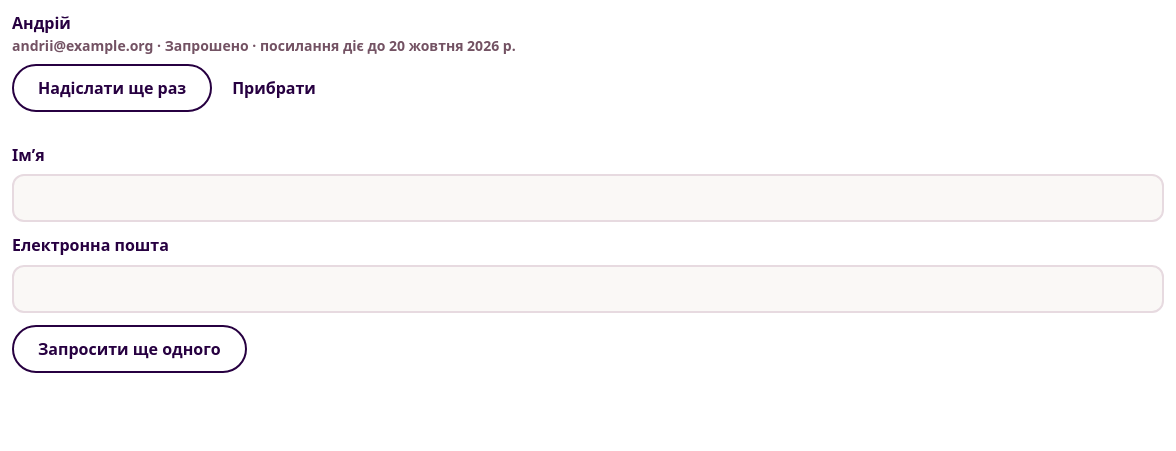
Test: resend shows what became of the email › {"kind":"sent","blockCheck":"clear"}
Click the button "Надіслати ще раз".
click(112, 88)  # box [12,64,212,112]
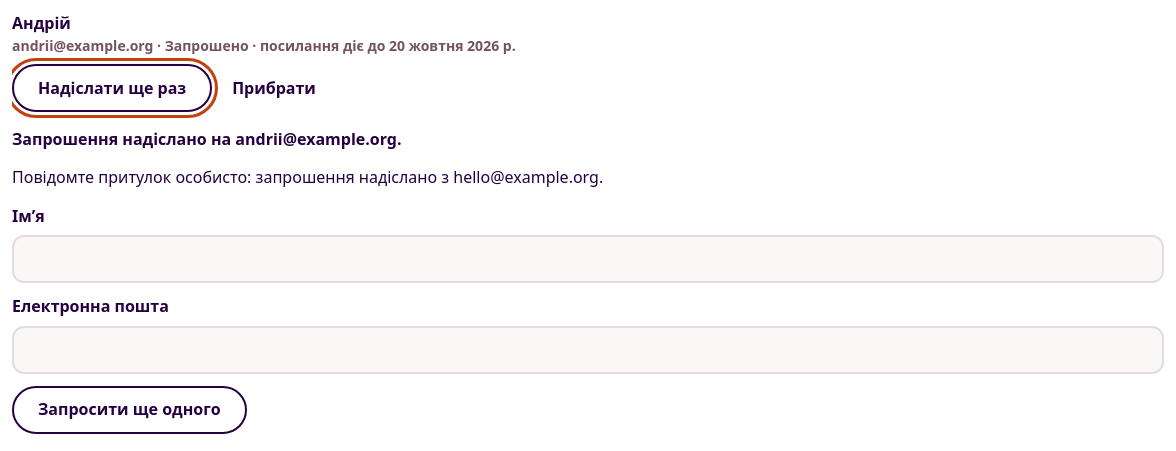
Expected: the message reads "Запрошення надіслано на andrii@example.org.", [12,128,402,150]
Expected: the text "Повідомте притулок особисто: запрошення надіслано з hello@example.org." is shown, [12,166,603,188]
